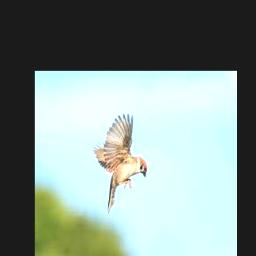Sparrow: (93, 114, 148, 213)
